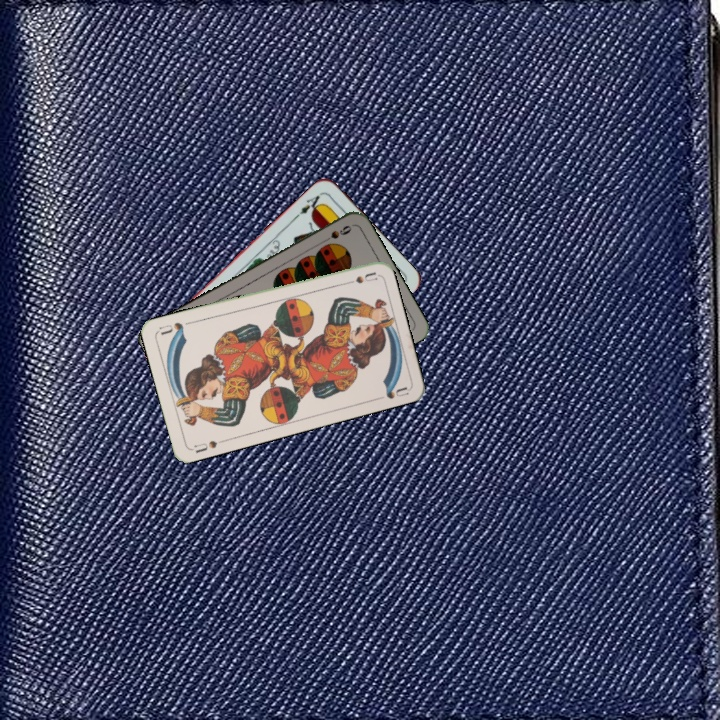EA: (291, 189, 325, 221)
S9: (317, 221, 354, 247)
SU: (338, 268, 379, 288), (190, 436, 220, 456)
